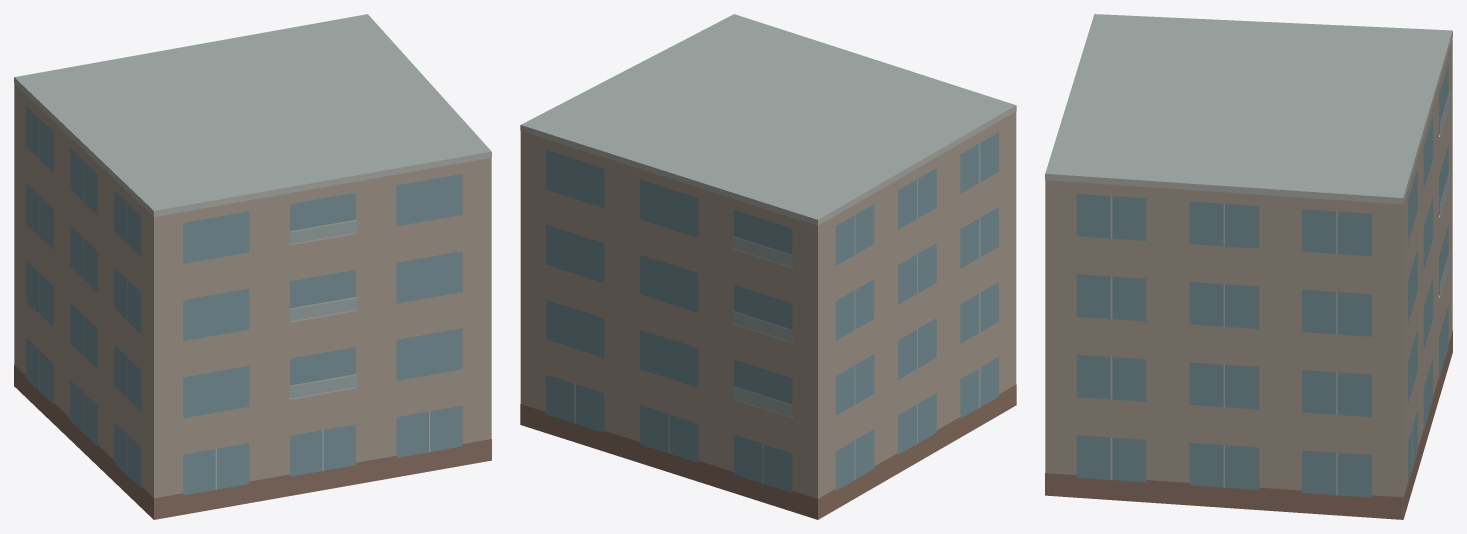
File: survey-upis-33022890.glb
3 views of the same model, side by side, from view 1: azimuth 30°, elevation 25°; view 2: azimuth 150°, elevation 25°; view 3: azimuth 270°, elevation 25° (orthographic). The views are drawn at different scales.
Visible parts, largest first — view 1: survey-upis-33022890.tmp; view 2: survey-upis-33022890.tmp; view 3: survey-upis-33022890.tmp.
Boxes of the visible parts, x1,y1,x2,y2 form: survey-upis-33022890.tmp: [14, 14, 491, 519]; survey-upis-33022890.tmp: [520, 14, 1016, 519]; survey-upis-33022890.tmp: [1045, 14, 1452, 519].
Size of the model in its own units: 14.98 by 12.2 by 14.02.
